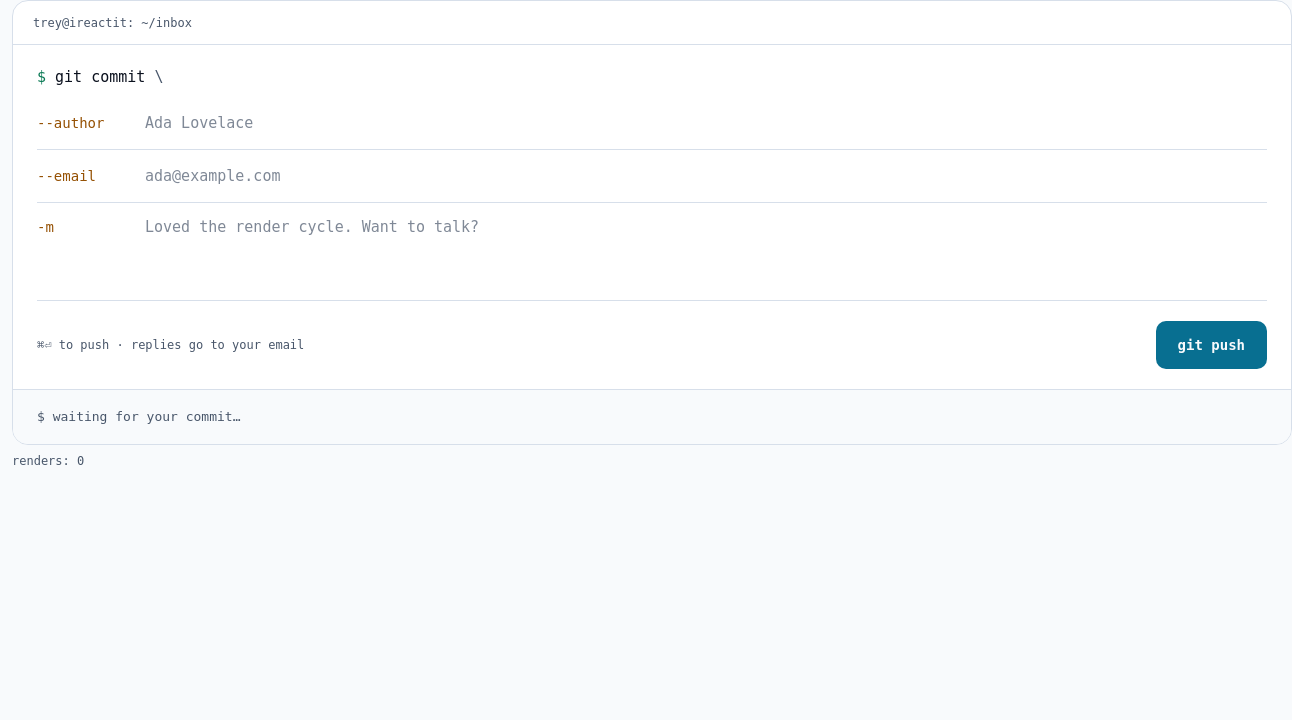
<CommitTerminal /> › shows field errors and sends nothing when invalid
The image size is (1292, 720).
Click the button "git push": (1211, 345) [1156,321,1267,369]
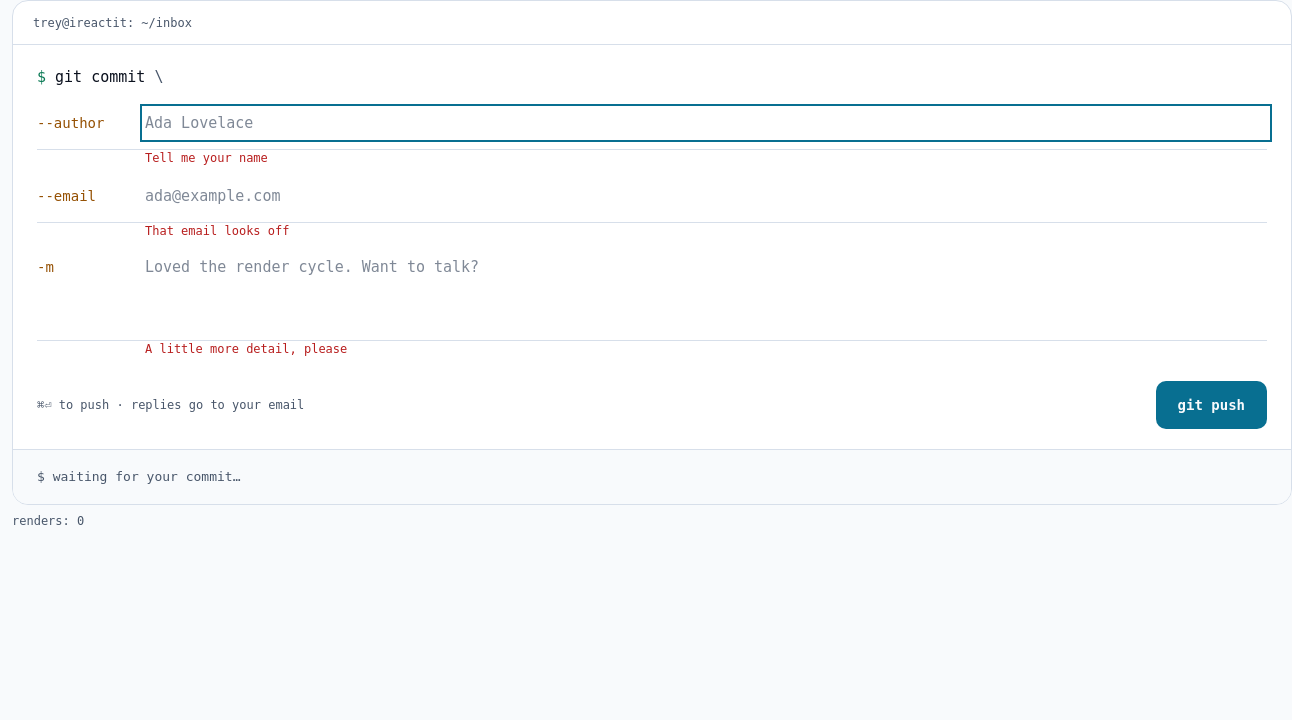
Result: the text "Tell me your name" is shown at [145,151,268,165]
